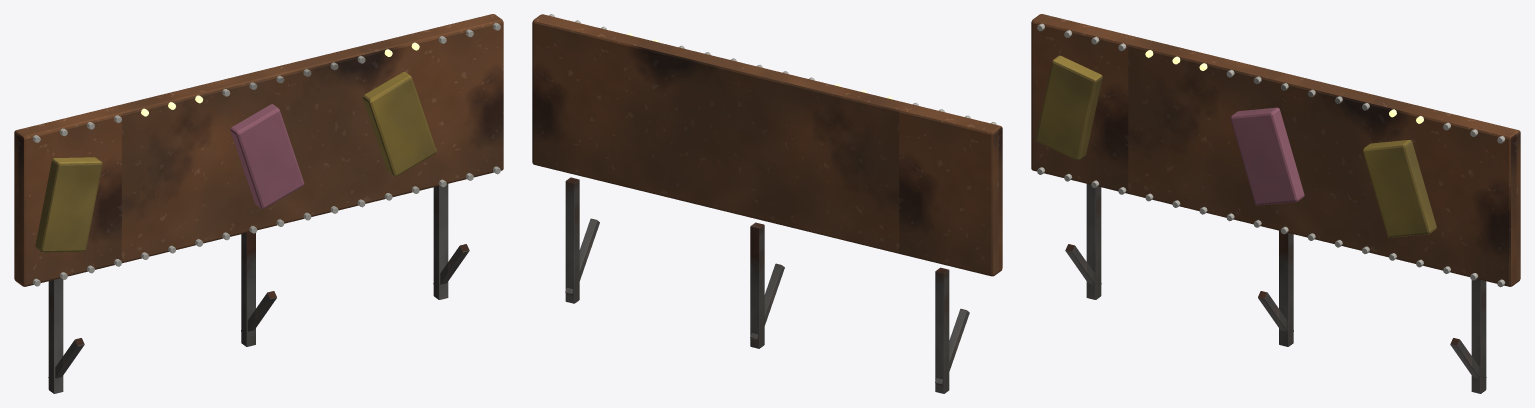
File: F34_toy_factory_sign.glb
3 renders of one model, left to right at view 1: azimuth 30°, elevation 25°; view 2: azimuth 150°, elevation 25°; view 3: azimuth 330°, elevation 25°, orthographic. The views are drawn at different scales.
Parts seen in each view (by area): view 1: F34_toy_factory_sign; view 2: F34_toy_factory_sign; view 3: F34_toy_factory_sign.
Boxes of the visible parts, box(x1,y1,x2,y2) form: F34_toy_factory_sign: box(14, 14, 503, 393); F34_toy_factory_sign: box(532, 14, 1002, 393); F34_toy_factory_sign: box(1031, 14, 1520, 393).
Size of the model in its own units: 4 by 2.2 by 0.4275.
Materials: 6 (6 with a texture image).
